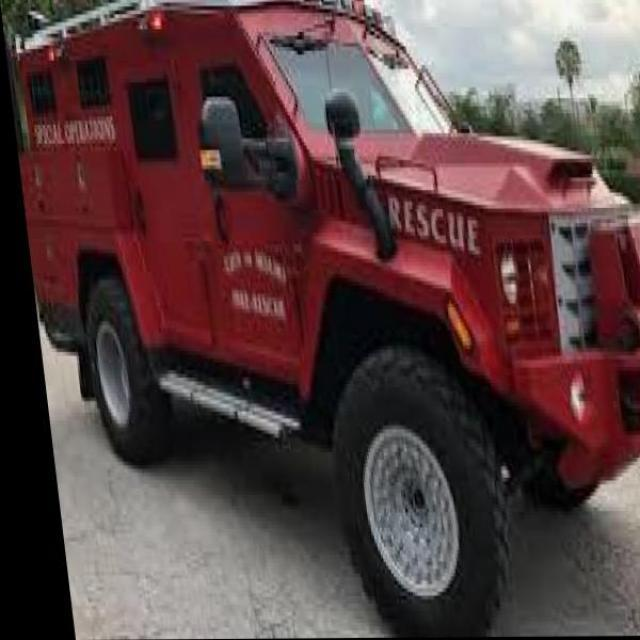emergency: (6, 1, 638, 636)
